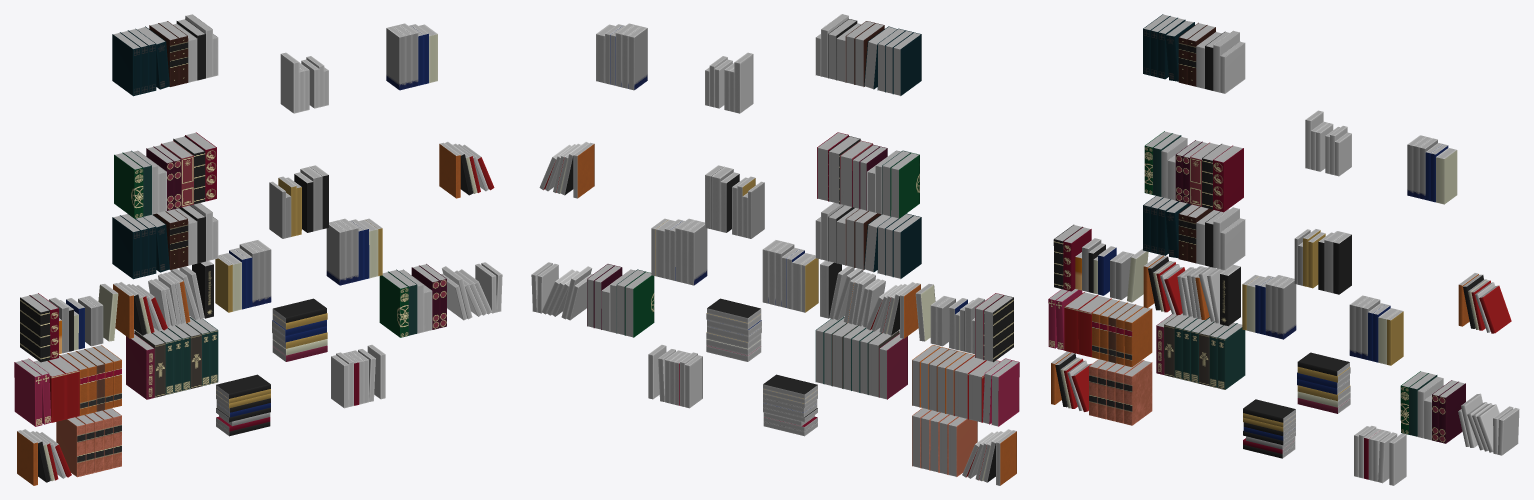
File: Books_mesh.fbx
The picture shows the model from 3 angles, left to right: view 1: azimuth 30°, elevation 25°; view 2: azimuth 150°, elevation 25°; view 3: azimuth 330°, elevation 25°; orthographic projection. The views are drawn at different scales.
Visible parts, largest first — view 1: Books_mesh; view 2: Books_mesh; view 3: Books_mesh.
Part boxes in pixels (bbox=[...]): Books_mesh: bbox=[14, 14, 502, 485]; Books_mesh: bbox=[531, 14, 1019, 485]; Books_mesh: bbox=[1048, 14, 1519, 485].
Bounding box in the file's own units: 394 × 333 × 30.19.
Materials: 1 (1 with a texture image).
